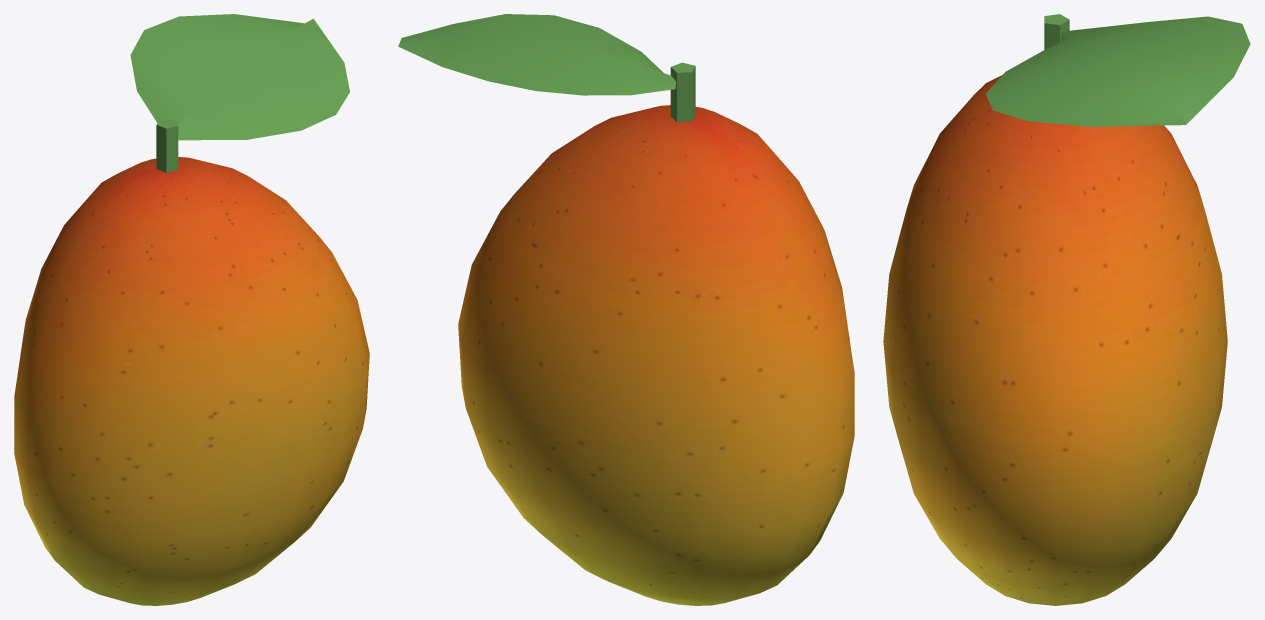
Rendered from mango.glb.
The picture shows the model from 3 angles, left to right: view 1: azimuth 30°, elevation 25°; view 2: azimuth 150°, elevation 25°; view 3: azimuth 270°, elevation 25°; orthographic projection. The views are drawn at different scales.
Parts seen in each view (by area): view 1: Mango; view 2: Mango; view 3: Mango.
Boxes of the visible parts, box(x1,y1,x2,y2) form: Mango: box(14, 14, 369, 605); Mango: box(398, 14, 854, 605); Mango: box(883, 14, 1250, 605).
Size of the model in its own units: 0.1346 by 0.1874 by 0.1049.
Materials: 2 (1 with a texture image).
